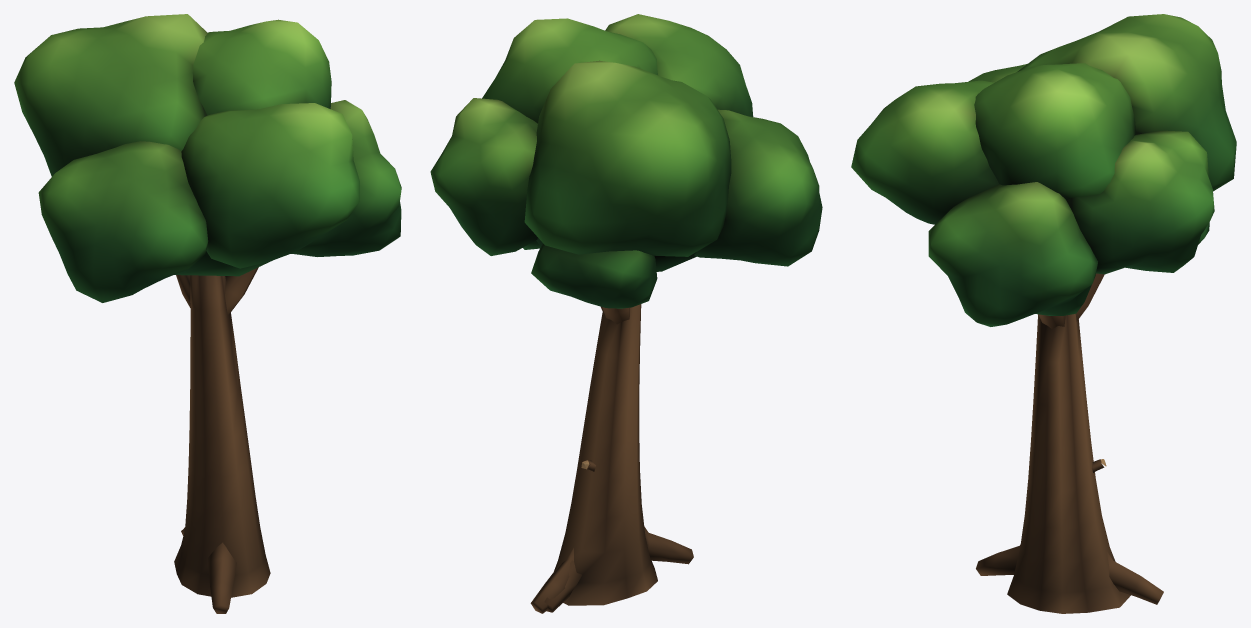
File: tree-young-v1.glb
3 renders of one model, left to right at view 1: azimuth 30°, elevation 25°; view 2: azimuth 150°, elevation 25°; view 3: azimuth 270°, elevation 25°, orthographic.
Visible parts, largest first — view 1: 1_leaves, 0_trunk; view 2: 1_leaves, 0_trunk; view 3: 1_leaves, 0_trunk.
Part boxes in pixels (box(x1,y1,x2,y2)): 1_leaves: box(14, 14, 401, 302); 0_trunk: box(174, 267, 270, 613); 1_leaves: box(430, 14, 822, 308); 0_trunk: box(530, 304, 693, 613); 1_leaves: box(851, 14, 1236, 326); 0_trunk: box(976, 273, 1163, 613).
Size of the model in its own units: 2 by 3.04 by 1.97.
